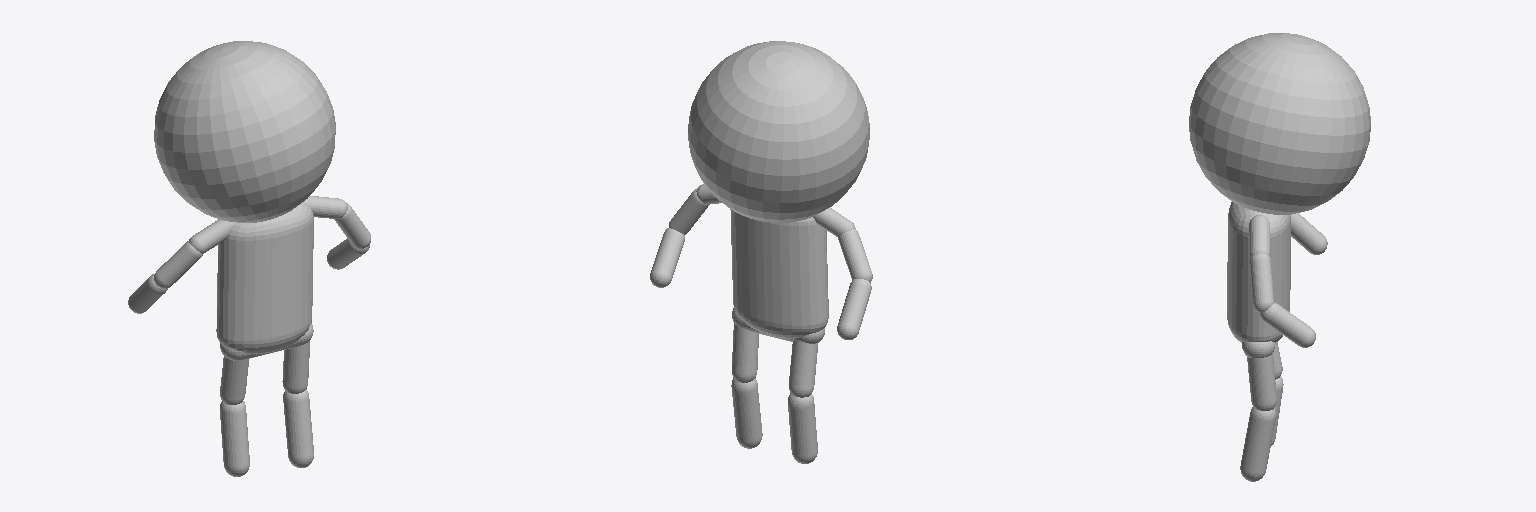
The model's file is Stickman_000061.obj.
The picture shows the model from 3 angles: view 1: azimuth 30°, elevation 25°; view 2: azimuth 150°, elevation 25°; view 3: azimuth 270°, elevation 25°; orthographic projection.
Visible parts, largest first — view 1: Head_Sphere.001, Body_Roundcube.002, LowerLegLeft_Roundcube.013, LowerLegRight_Roundcube.011, UpperLegLeft_Roundcube.012, UpperLegRight_Roundcube.010, UpperArmRight_Roundcube.015, ShoulderRight_Roundcube.014, UpperArmLeft_Roundcube.018, LowerArmRight_Roundcube.016, ShoulderLeft_Roundcube.017, LowerArmLeft_Roundcube.019 (+1 smaller); view 2: Head_Sphere.001, Body_Roundcube.002, LowerLegRight_Roundcube.011, LowerLegLeft_Roundcube.013, UpperLegRight_Roundcube.010, LowerArmRight_Roundcube.016, UpperLegLeft_Roundcube.012, LowerArmLeft_Roundcube.019, UpperArmRight_Roundcube.015, UpperArmLeft_Roundcube.018, ShoulderRight_Roundcube.014; view 3: Head_Sphere.001, Body_Roundcube.002, LowerLegLeft_Roundcube.013, UpperLegLeft_Roundcube.012, LowerArmLeft_Roundcube.019, UpperArmLeft_Roundcube.018, LowerArmRight_Roundcube.016, ShoulderLeft_Roundcube.017.
Part boxes in pixels (left/top/right/bottom): Head_Sphere.001: left=154, top=41, right=335, bottom=222; Body_Roundcube.002: left=216, top=203, right=313, bottom=354; LowerLegLeft_Roundcube.013: left=283, top=389, right=313, bottom=467; LowerLegRight_Roundcube.011: left=220, top=401, right=249, bottom=476; UpperLegLeft_Roundcube.012: left=282, top=341, right=309, bottom=393; UpperLegRight_Roundcube.010: left=220, top=356, right=248, bottom=404; UpperArmRight_Roundcube.015: left=154, top=241, right=202, bottom=288; ShoulderRight_Roundcube.014: left=189, top=219, right=236, bottom=253; UpperArmLeft_Roundcube.018: left=334, top=203, right=370, bottom=248; LowerArmRight_Roundcube.016: left=128, top=274, right=167, bottom=313; ShoulderLeft_Roundcube.017: left=302, top=196, right=347, bottom=218; LowerArmLeft_Roundcube.019: left=327, top=238, right=369, bottom=269; Head_Sphere.001: left=688, top=41, right=869, bottom=222; Body_Roundcube.002: left=730, top=209, right=828, bottom=338; LowerLegRight_Roundcube.011: left=788, top=393, right=817, bottom=463; LowerLegLeft_Roundcube.013: left=731, top=378, right=762, bottom=448; UpperLegRight_Roundcube.010: left=789, top=341, right=818, bottom=397; LowerArmRight_Roundcube.016: left=837, top=279, right=871, bottom=339; UpperLegLeft_Roundcube.012: left=732, top=323, right=758, bottom=382; LowerArmLeft_Roundcube.019: left=650, top=228, right=684, bottom=287; UpperArmRight_Roundcube.015: left=838, top=229, right=872, bottom=282; UpperArmLeft_Roundcube.018: left=669, top=188, right=709, bottom=234; ShoulderRight_Roundcube.014: left=813, top=208, right=855, bottom=236; Head_Sphere.001: left=1189, top=33, right=1370, bottom=214; Body_Roundcube.002: left=1227, top=202, right=1290, bottom=342; LowerLegLeft_Roundcube.013: left=1240, top=407, right=1275, bottom=481; UpperLegLeft_Roundcube.012: left=1247, top=353, right=1276, bottom=410; LowerArmLeft_Roundcube.019: left=1260, top=302, right=1315, bottom=347; UpperArmLeft_Roundcube.018: left=1250, top=254, right=1274, bottom=312; LowerArmRight_Roundcube.016: left=1291, top=213, right=1327, bottom=254; ShoulderLeft_Roundcube.017: left=1249, top=215, right=1269, bottom=257.
Size of the model in its own units: 6.73 by 12.44 by 4.92.